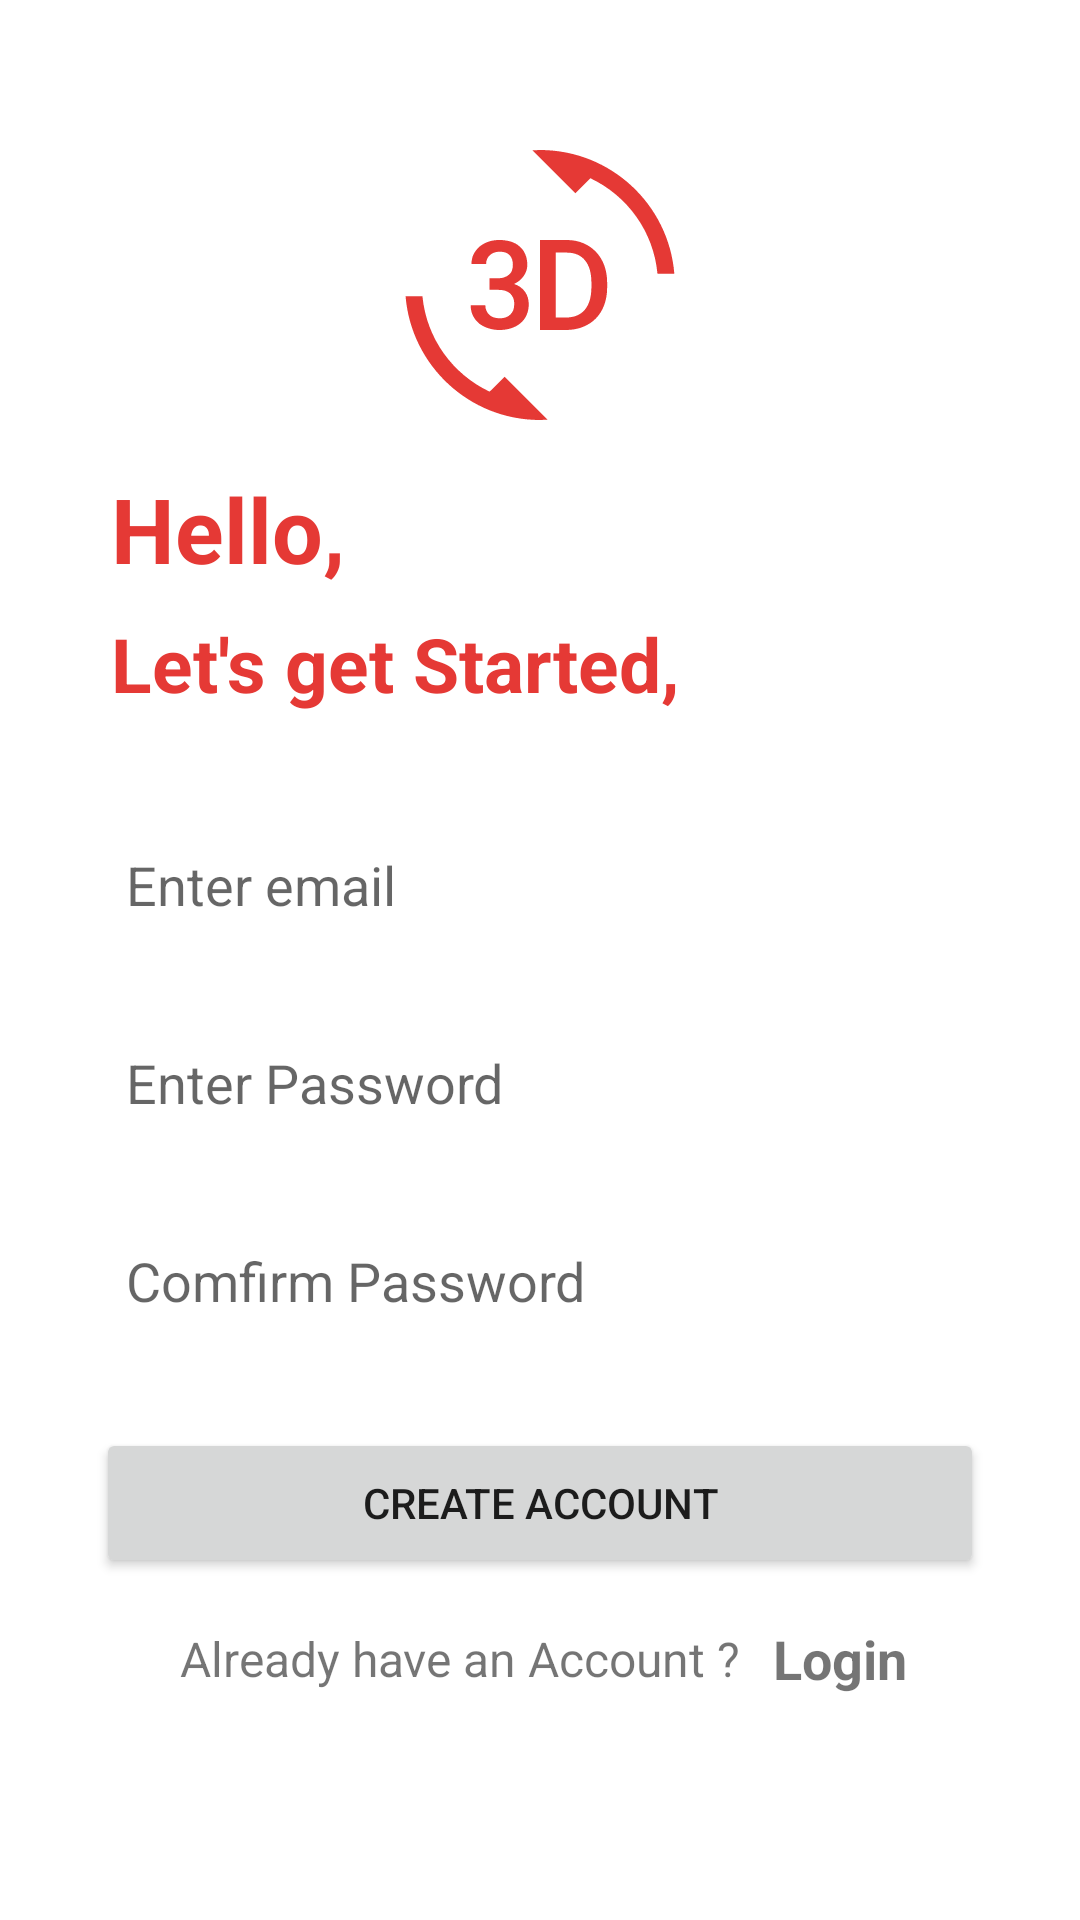

Icon bounding boxes for this 1080*1920 phone screenshot, format (x1, y1, x2, y2):
rotation: (405, 150, 675, 420)
